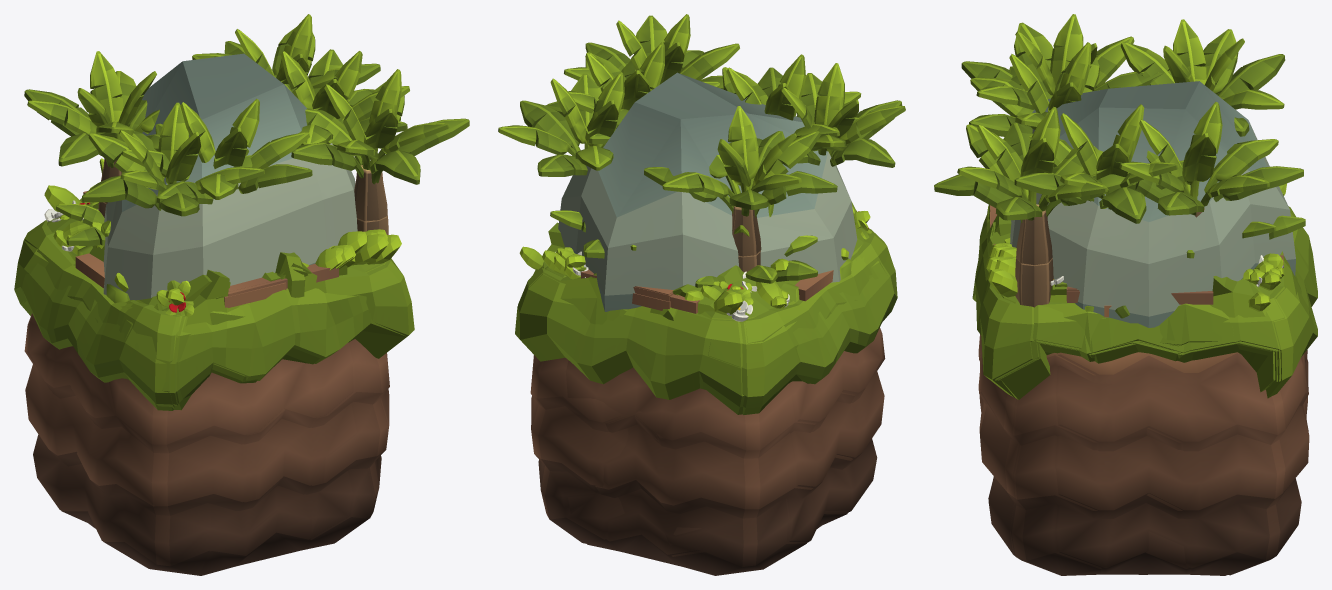
File: Spring_Cubes.fbx
3 views of the same model, side by side, from view 1: azimuth 30°, elevation 25°; view 2: azimuth 150°, elevation 25°; view 3: azimuth 270°, elevation 25° (orthographic). The views are drawn at different scales.
Parts seen in each view (by area): view 1: Spring_Cube_01, Spring_Cube_03.002, Spring_Cube_06, Spring_Cube_04, Tree_Spring, Spring_Cube_02, Spring_Cube_07, Tree_Spring.003, Tree_Spring.001, Tree_Spring.004, Spring_Cube_12, Tree_Spring.005 (+7 smaller); view 2: Spring_Cube_03.002, Spring_Cube_05, Spring_Cube_03, Spring_Cube_08, Spring_Cube_01, Tree_Spring.001, Tree_Spring.002, Spring_Cube_02, Tree_Spring.003, Spring_Cube_10, Tree_Spring, Spring_Cube_12 (+7 smaller); view 3: Spring_Cube_08, Spring_Cube_03.002, Spring_Cube_06, Tree_Spring, Tree_Spring.002, Spring_Cube_07, Tree_Spring.001, Spring_Cube_09, Spring_Cube_03, Tree_Spring.003, Tree_Spring.005, Tree_Spring.004 (+5 smaller).
Boxes of the visible parts, bbox=[...] form: Spring_Cube_01: bbox=[27, 245, 356, 575]; Spring_Cube_03.002: bbox=[103, 53, 357, 300]; Spring_Cube_06: bbox=[44, 185, 406, 562]; Spring_Cube_04: bbox=[118, 234, 388, 575]; Tree_Spring: bbox=[291, 69, 469, 234]; Spring_Cube_02: bbox=[22, 218, 342, 575]; Spring_Cube_07: bbox=[56, 158, 414, 410]; Tree_Spring.003: bbox=[82, 102, 264, 216]; Tree_Spring.001: bbox=[24, 51, 160, 217]; Tree_Spring.004: bbox=[122, 98, 312, 204]; Spring_Cube_12: bbox=[24, 220, 347, 392]; Tree_Spring.005: bbox=[274, 49, 409, 145]; Spring_Cube_03.002: bbox=[558, 72, 857, 311]; Spring_Cube_05: bbox=[564, 263, 855, 575]; Spring_Cube_03: bbox=[515, 206, 871, 414]; Spring_Cube_08: bbox=[530, 248, 788, 573]; Spring_Cube_01: bbox=[781, 258, 885, 542]; Tree_Spring.001: bbox=[644, 106, 837, 272]; Tree_Spring.002: bbox=[498, 72, 628, 176]; Spring_Cube_02: bbox=[580, 254, 897, 393]; Tree_Spring.003: bbox=[781, 63, 905, 167]; Spring_Cube_10: bbox=[550, 210, 890, 414]; Tree_Spring: bbox=[564, 14, 739, 89]; Spring_Cube_12: bbox=[554, 228, 892, 520]; Spring_Cube_08: bbox=[995, 208, 1309, 575]; Spring_Cube_03.002: bbox=[1010, 81, 1295, 327]; Spring_Cube_06: bbox=[972, 183, 1305, 575]; Tree_Spring: bbox=[934, 106, 1138, 307]; Tree_Spring.002: bbox=[1119, 101, 1303, 217]; Spring_Cube_07: bbox=[980, 205, 1307, 397]; Tree_Spring.001: bbox=[1097, 19, 1285, 136]; Spring_Cube_09: bbox=[986, 206, 1301, 385]; Spring_Cube_03: bbox=[1001, 206, 1317, 399]; Tree_Spring.003: bbox=[961, 14, 1162, 129]; Tree_Spring.005: bbox=[1014, 104, 1184, 223]; Tree_Spring.004: bbox=[969, 42, 1099, 136].
Size of the model in its own units: 128 by 157 by 117.
